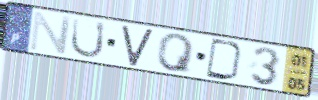3: (245, 46, 285, 88)
D: (204, 37, 246, 83)
N: (27, 10, 74, 56)
Q: (156, 33, 197, 75)
U: (68, 16, 107, 59)
V: (119, 25, 155, 69)
